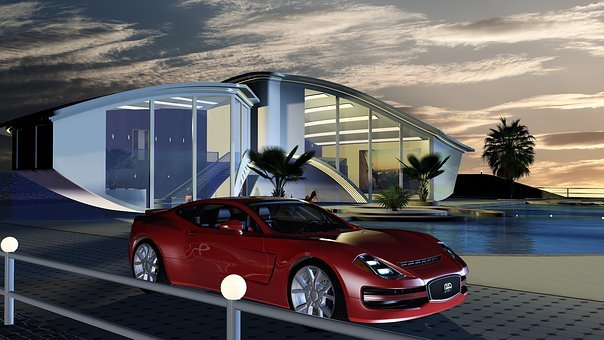car: (109, 187, 482, 321)
